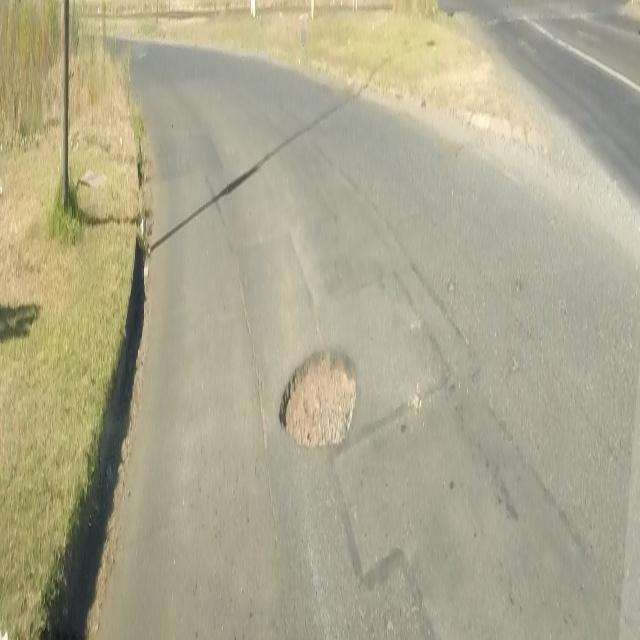pothole: (276, 338, 358, 460)
